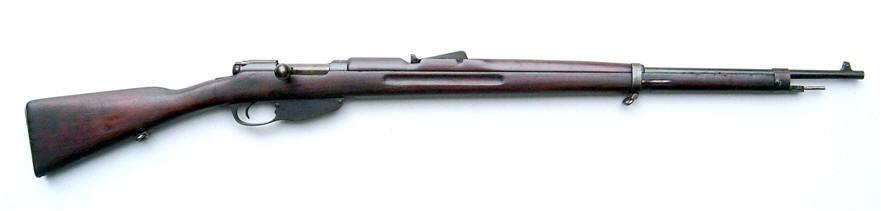gun: (27, 22, 873, 190)
